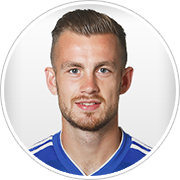face: (40, 36, 136, 126)
